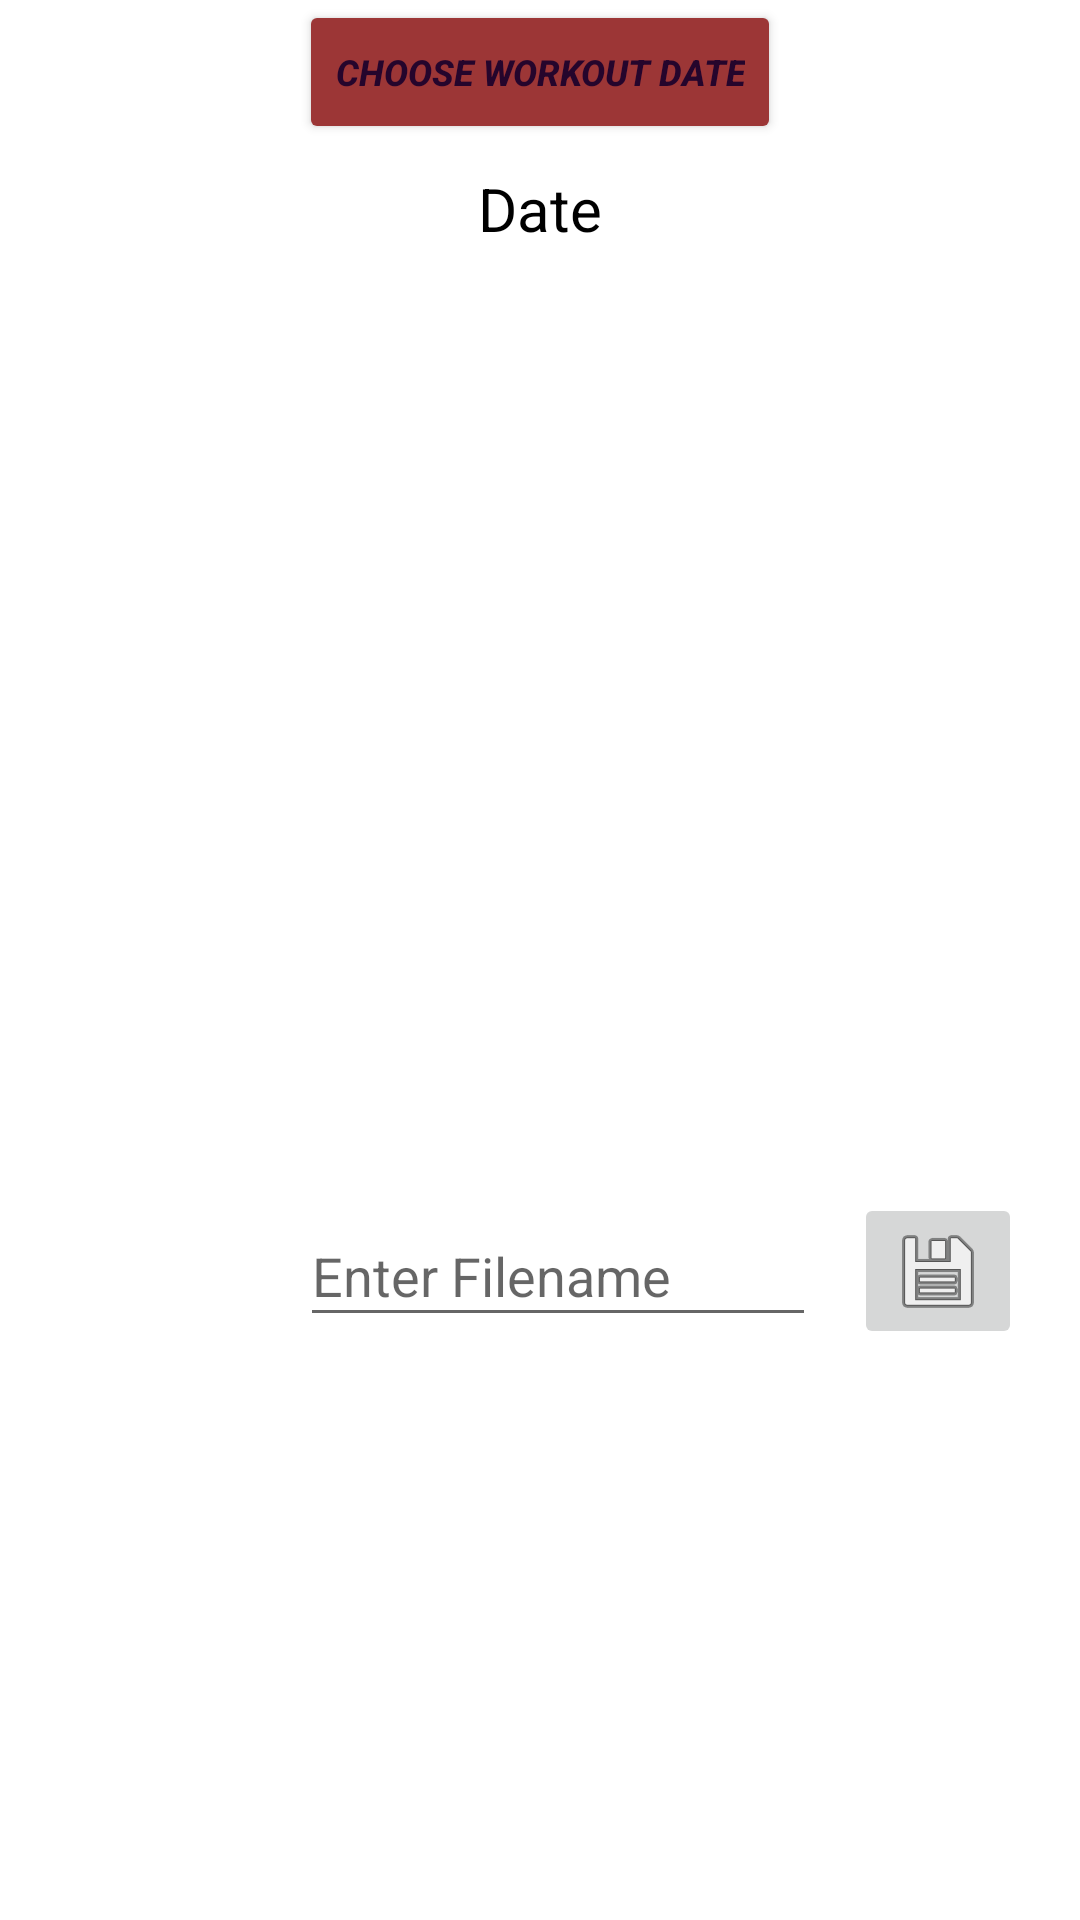

Where icons sit on this 1080×1920 app screen, as (x1, y1, x2, y2):
save: (866, 1211, 1010, 1331)
